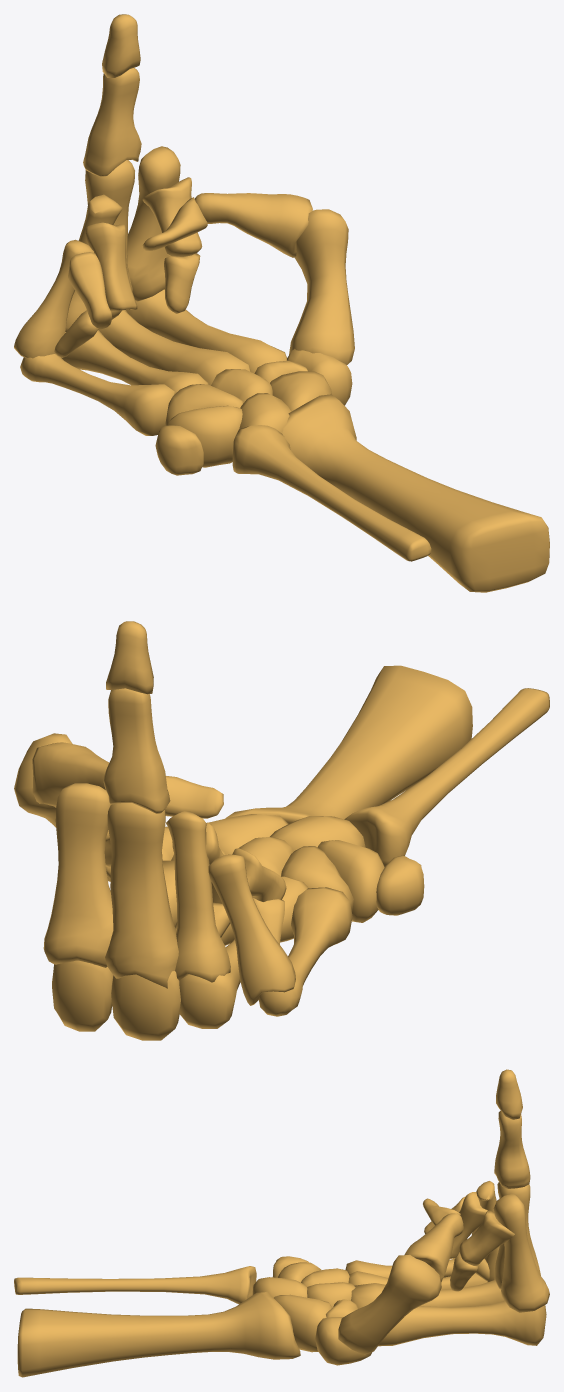
Rendered from skelehand.fbx.
3 views of the same model, one above another, from view 1: azimuth 30°, elevation 25°; view 2: azimuth 150°, elevation 25°; view 3: azimuth 270°, elevation 25° (orthographic). The views are drawn at different scales.
Parts seen in each view (by area): view 1: Cube.014; view 2: Cube.014; view 3: Cube.014.
Part boxes in pixels (x1,y1,x2,y2): Cube.014: [14, 14, 549, 592]; Cube.014: [14, 621, 549, 1040]; Cube.014: [14, 1069, 549, 1377].
Bounding box in the file's own units: 136 × 168 × 298.
